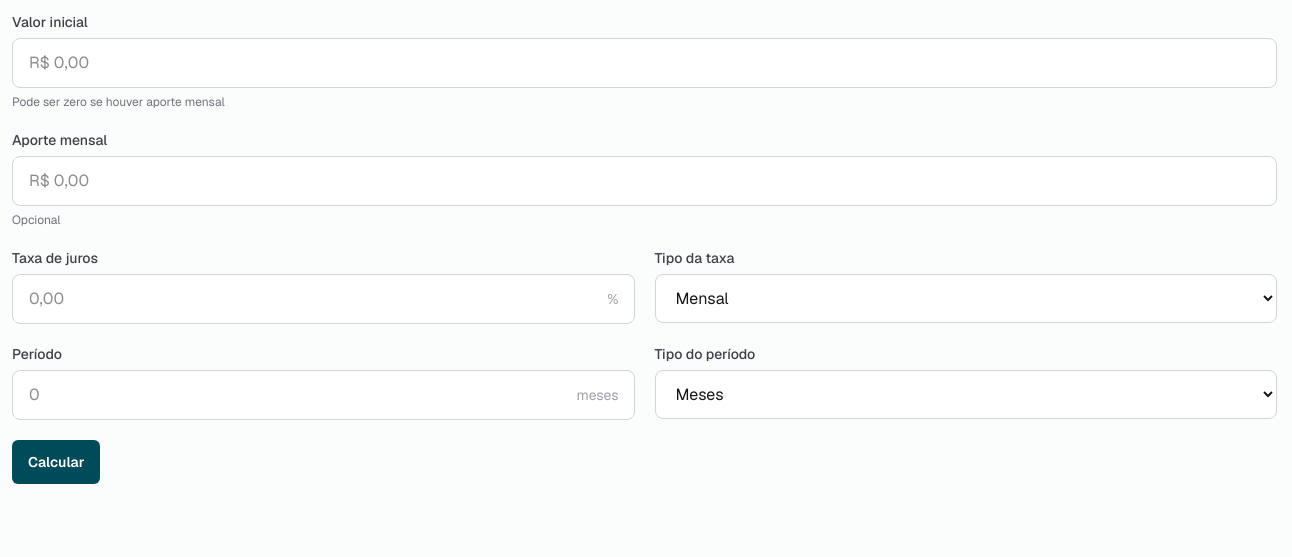
Test: CompoundInterestForm — validações › mostra erros quando o formulário está vazio (valor inicial/aporte, taxa e período)
Click the button "Calcular": (56, 462) top-left (12, 440), bottom-right (100, 484)
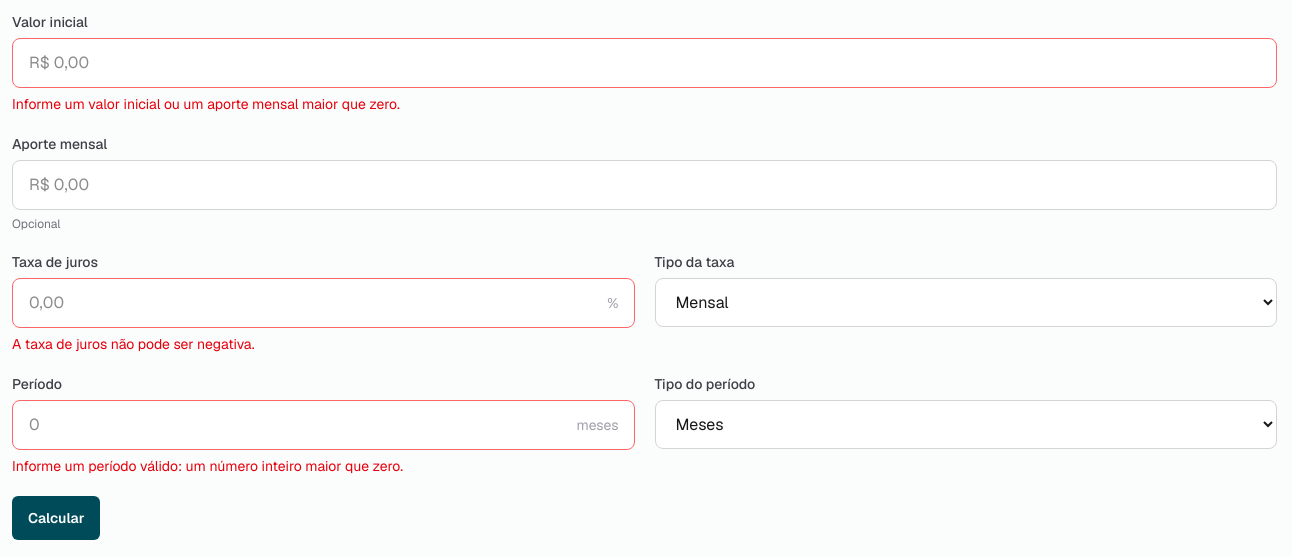
Check: the text "Informe um valor inicial ou um aporte mensal maior que zero." is shown, box top-left (12, 95), bottom-right (400, 113)
Check: the text "A taxa de juros não pode ser negativa." is shown, box top-left (12, 335), bottom-right (255, 353)
Check: the text "Informe um período válido: um número inteiro maior que zero." is shown, box top-left (12, 457), bottom-right (403, 475)
